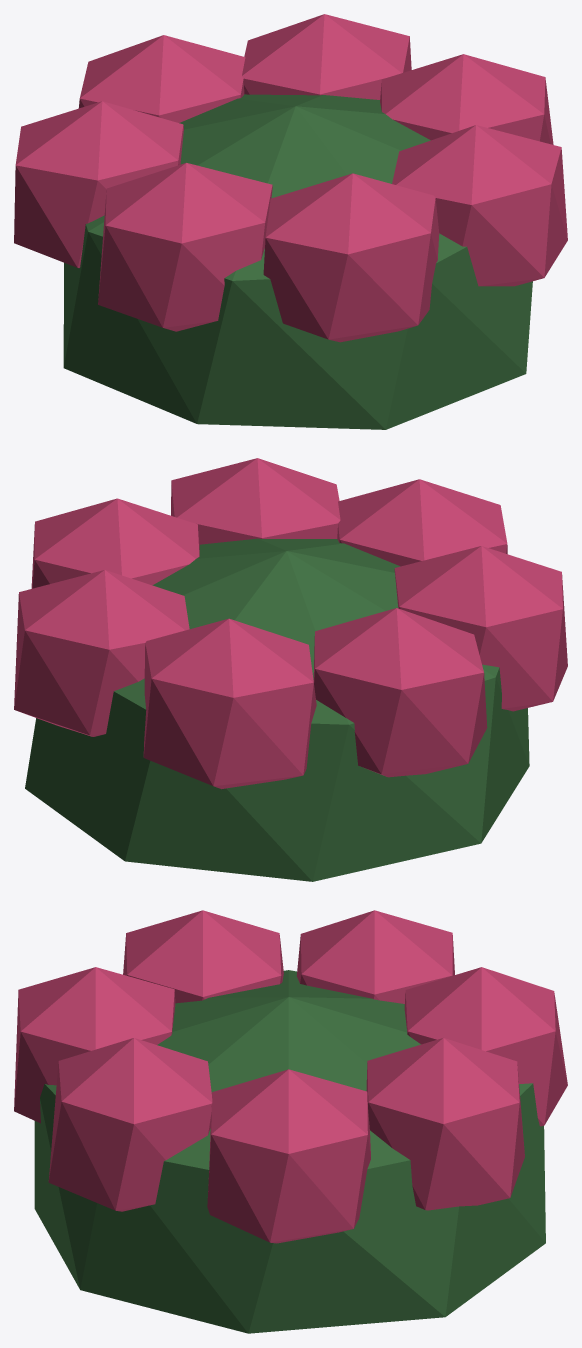
The model's file is bougainvillea.glb.
The picture shows the model from 3 angles, top to bottom: view 1: azimuth 30°, elevation 25°; view 2: azimuth 150°, elevation 25°; view 3: azimuth 270°, elevation 25°; orthographic projection. The views are drawn at different scales.
Visible parts, largest first — view 1: bougainvillea; view 2: bougainvillea; view 3: bougainvillea.
Part boxes in pixels (<box>): bougainvillea: <box>14,14,567,429</box>; bougainvillea: <box>14,458,567,881</box>; bougainvillea: <box>14,910,567,1333</box>.
Size of the model in its own units: 1.37 by 0.83 by 1.32.
